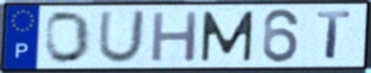6: (260, 7, 301, 65)
H: (148, 10, 201, 64)
M: (199, 9, 256, 64)
O: (44, 10, 93, 66)
T: (315, 10, 354, 62)
U: (96, 9, 148, 65)
